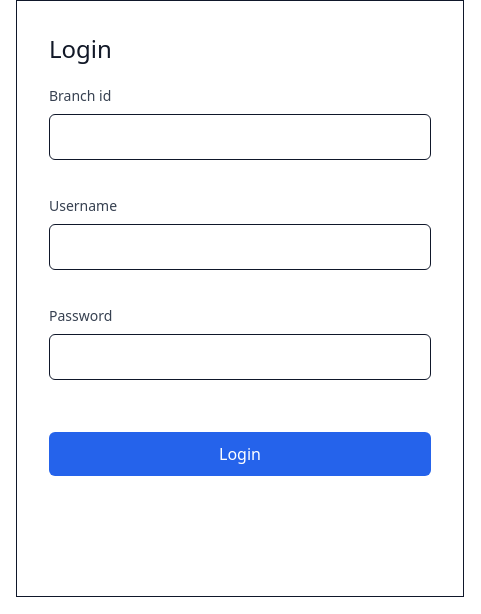
Test: password label is associated with password input
Click the password field labelled "Password": (240, 357) [49,334,431,380]
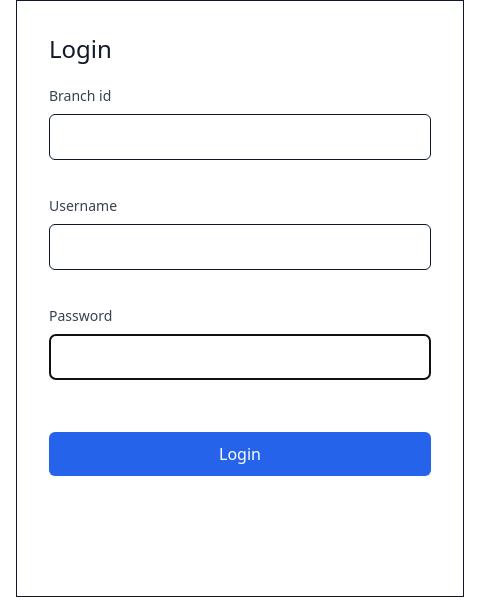
Type keys "hello password"
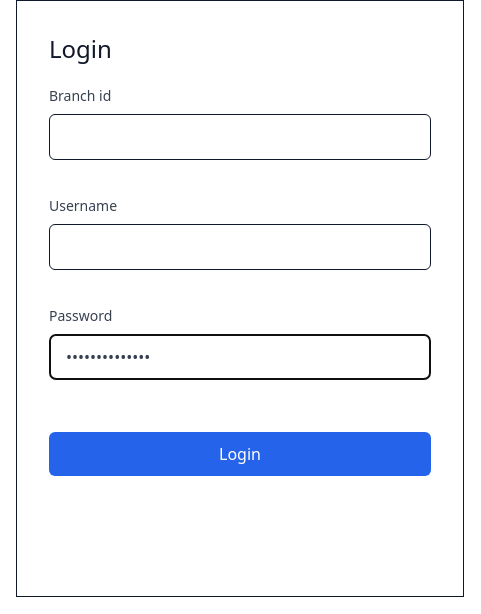
Expected: the password field showing "hello password" is shown, [49,334,431,380]
